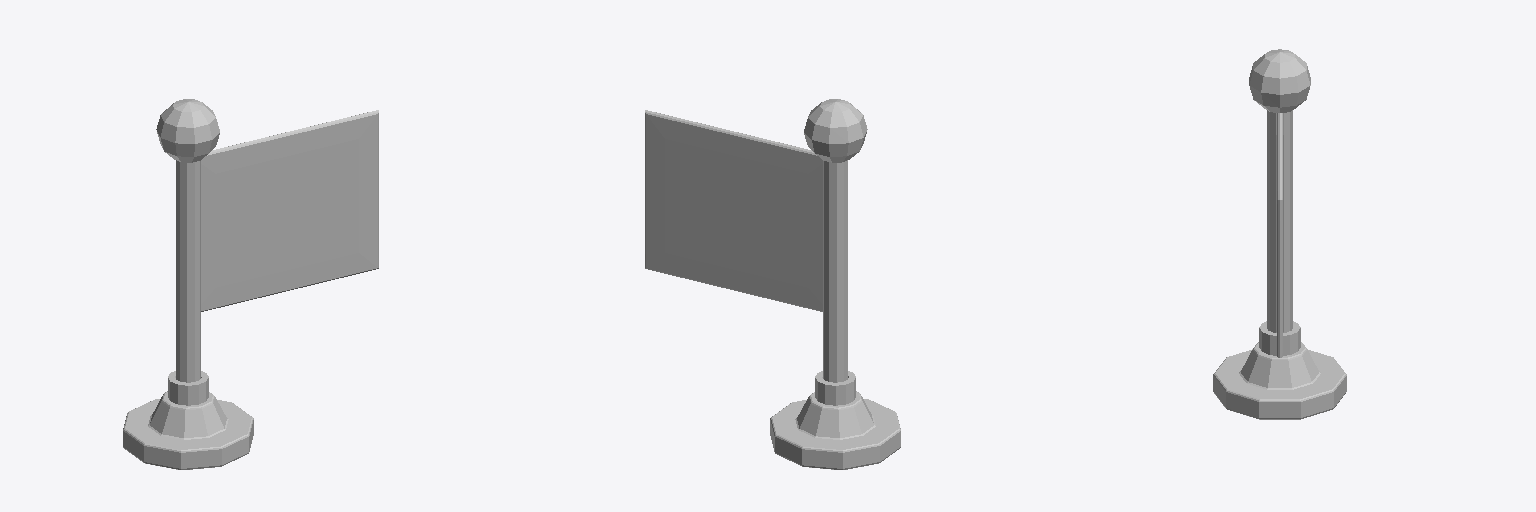
File: flag.obj
The picture shows the model from 3 angles: view 1: azimuth 30°, elevation 25°; view 2: azimuth 150°, elevation 25°; view 3: azimuth 270°, elevation 25°; orthographic projection.
Parts seen in each view (by area): view 1: pCube1__Mt_Flag, pCylinder1__Mt_Gold, pCylinder2__Mt_Body, pPipe1__Mt_Body; view 2: pCube1__Mt_Flag, pCylinder1__Mt_Gold, pCylinder2__Mt_Body, pPipe1__Mt_Body; view 3: pCylinder1__Mt_Gold, pCylinder2__Mt_Body, pCube1__Mt_Flag, pPipe1__Mt_Body.
Part boxes in pixels (x1,y1,x2,y2): pCube1__Mt_Flag: (201,110,378,311); pCylinder1__Mt_Gold: (123,99,253,469); pCylinder2__Mt_Body: (176,160,200,382); pPipe1__Mt_Body: (168,371,208,405); pCube1__Mt_Flag: (645,110,822,311); pCylinder1__Mt_Gold: (770,99,900,469); pCylinder2__Mt_Body: (823,160,847,382); pPipe1__Mt_Body: (815,371,855,405); pCylinder1__Mt_Gold: (1213,49,1346,419); pCylinder2__Mt_Body: (1267,110,1292,332); pCube1__Mt_Flag: (1276,113,1283,357); pPipe1__Mt_Body: (1259,321,1300,355).
Bounding box in the file's own units: 21.45 × 28.51 × 10.12.